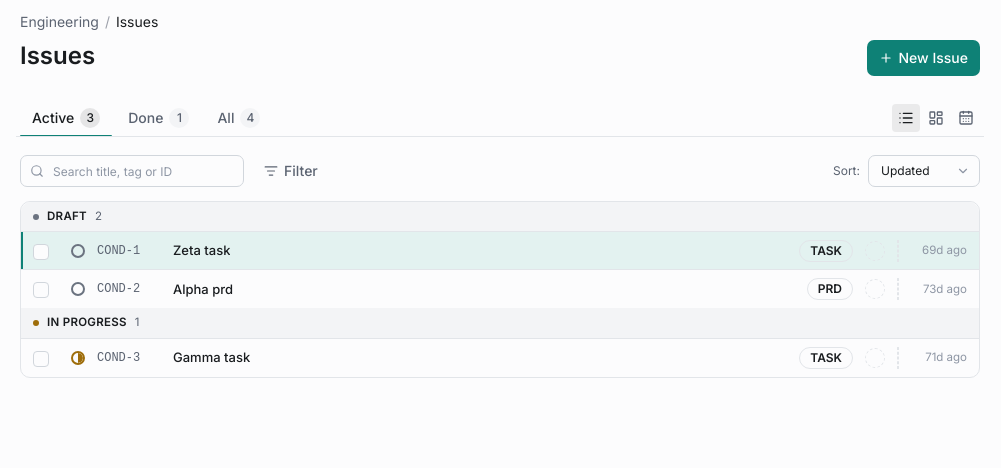
Test: display mode › switches to board and persists the choice
Click the button titled "Board view".
click(936, 118)  # box [922,104,950,132]
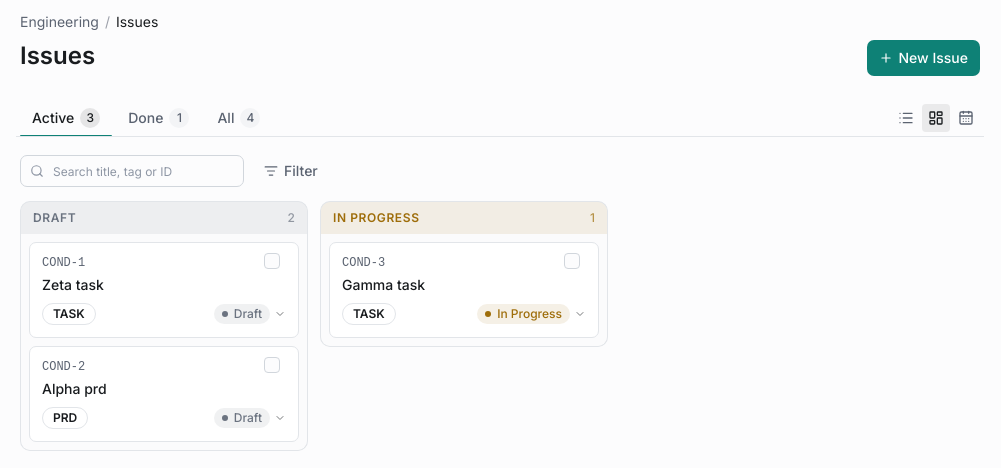
Result: the element with test id "work-item-list" is gone
